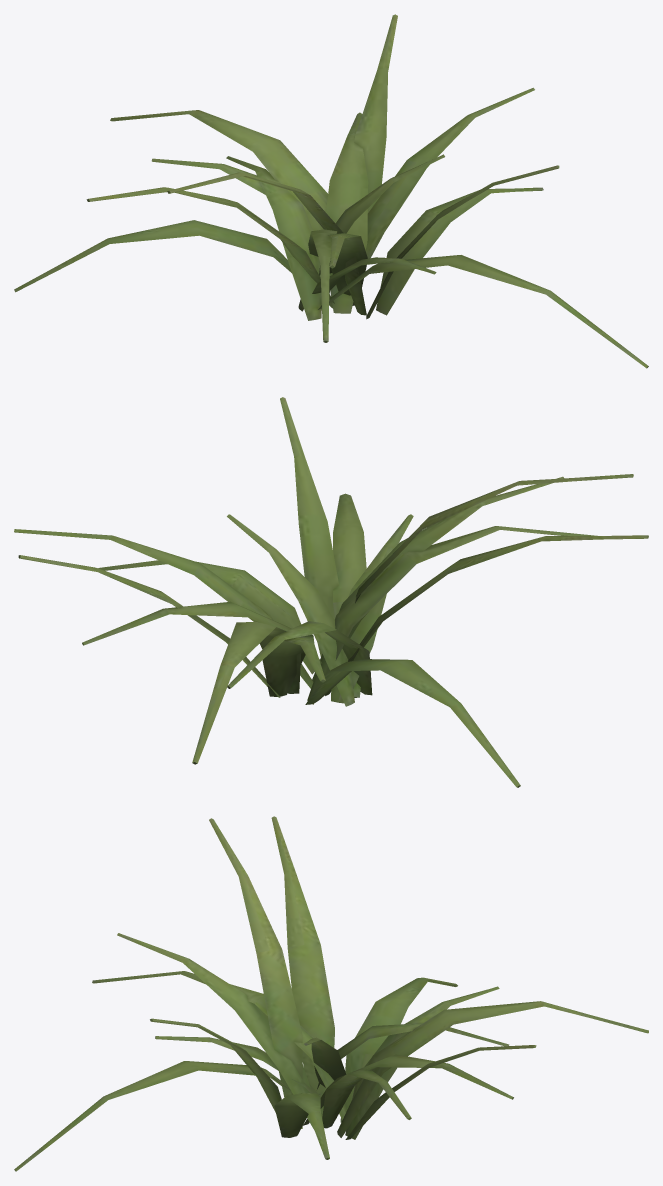
File: grass.glb
3 renders of one model, top to bottom at view 1: azimuth 30°, elevation 25°; view 2: azimuth 150°, elevation 25°; view 3: azimuth 270°, elevation 25°, orthographic. The views are drawn at different scales.
Visible parts, largest first — view 1: Grass; view 2: Grass; view 3: Grass.
Boxes of the visible parts, x1,y1,x2,y2 form: Grass: [14, 14, 648, 368]; Grass: [14, 397, 648, 787]; Grass: [14, 816, 648, 1171].
Size of the model in its own units: 1.35 by 0.5354 by 1.52.
Materials: 1 (1 with a texture image).
